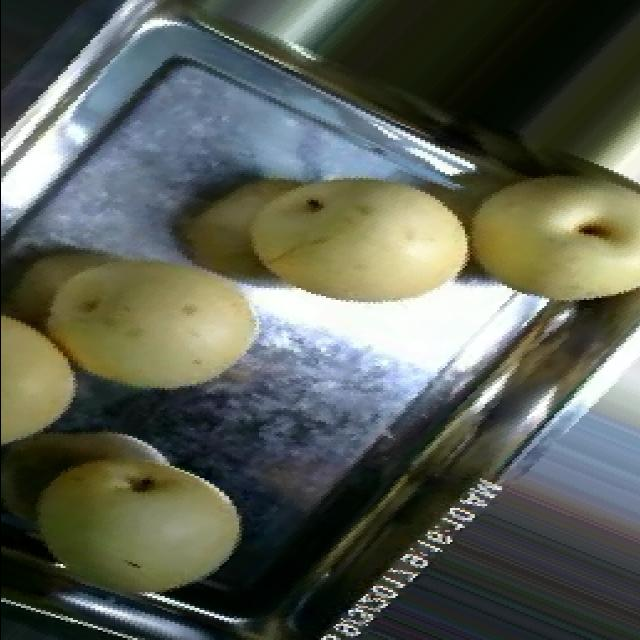Fruit: (0, 206, 283, 420), (2, 420, 256, 628), (226, 142, 488, 334), (439, 128, 640, 342)
